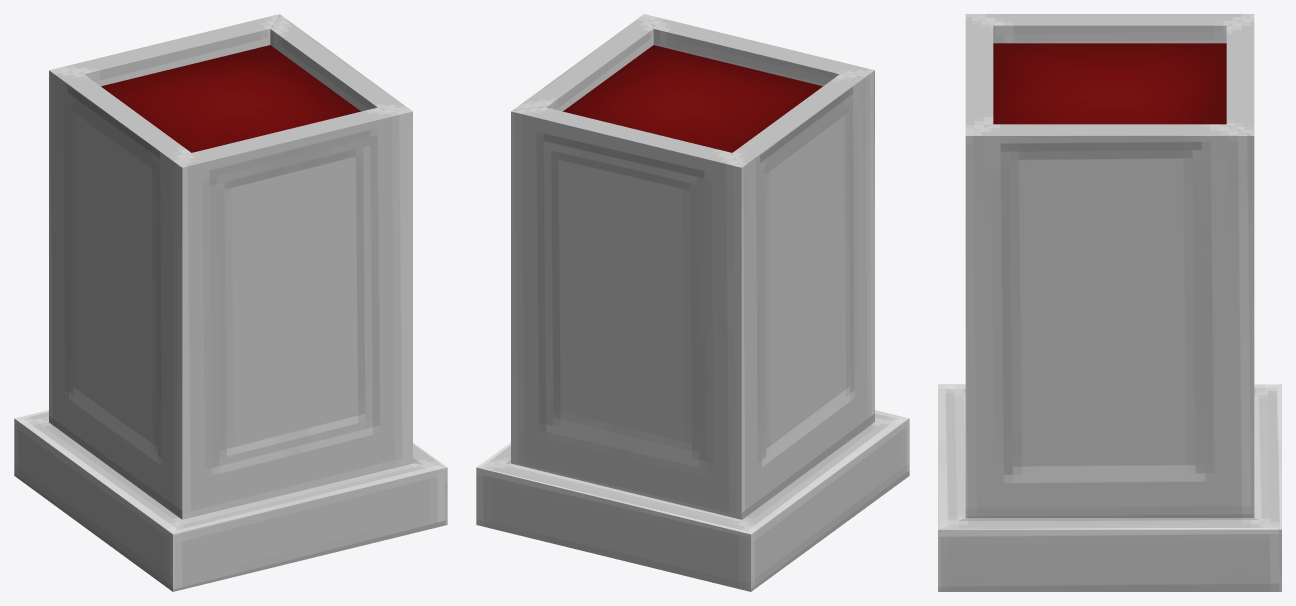
The model's file is Pedestal.fbx.
3 renders of one model, left to right at view 1: azimuth 30°, elevation 25°; view 2: azimuth 150°, elevation 25°; view 3: azimuth 270°, elevation 25°, orthographic. The views are drawn at different scales.
Parts seen in each view (by area): view 1: Pedestal; view 2: Pedestal; view 3: Pedestal.
Part boxes in pixels (x1,y1,x2,y2): Pedestal: [14, 14, 447, 591]; Pedestal: [476, 14, 909, 591]; Pedestal: [938, 14, 1281, 591].
Bounding box in the file's own units: 69.36 × 98.85 × 69.36.
